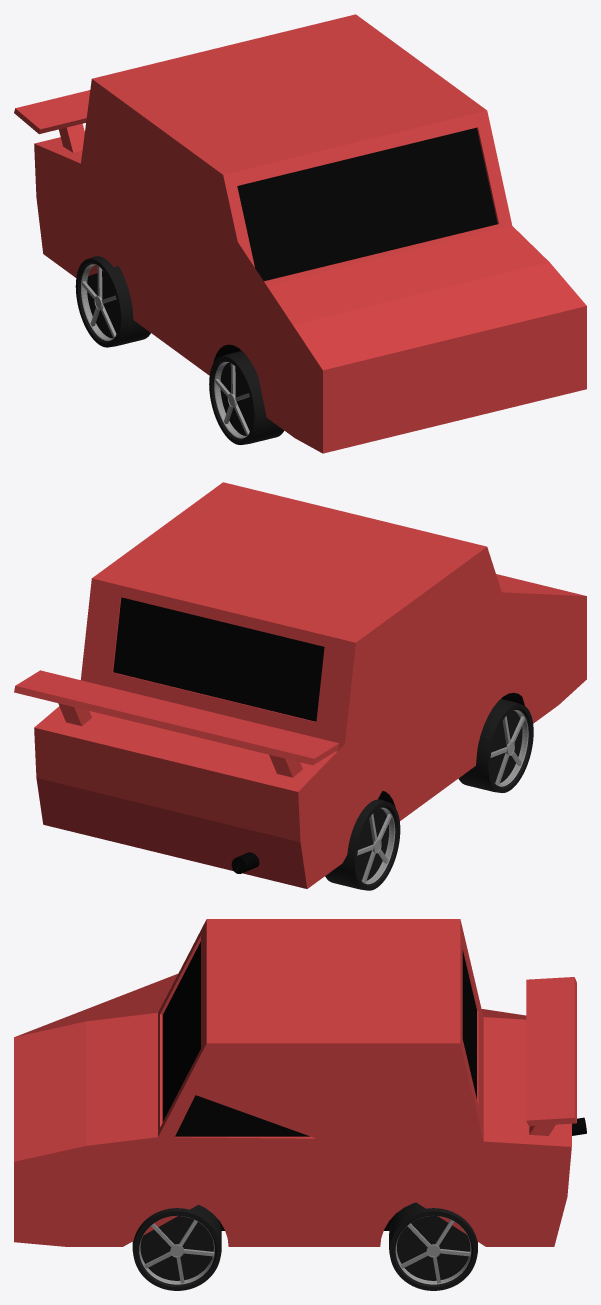
The model's file is Car.fbx.
3 renders of one model, top to bottom at view 1: azimuth 30°, elevation 25°; view 2: azimuth 150°, elevation 25°; view 3: azimuth 270°, elevation 25°, orthographic. The views are drawn at different scales.
Parts seen in each view (by area): view 1: Car, Wheel Back right, Wheel Back right.001, Cube.002, Cube.001; view 2: Car, Cube.002, Wheel Back right, Wheel Back right.001; view 3: Car, Cube.002, Wheel Back left, Wheel Back left.001.
Part boxes in pixels (x1,y1,x2,y2): Car: [34, 14, 586, 453]; Wheel Back right: [209, 351, 284, 444]; Wheel Back right.001: [75, 256, 150, 347]; Cube.002: [14, 90, 90, 134]; Cube.001: [59, 123, 84, 152]; Car: [34, 482, 586, 888]; Cube.002: [14, 670, 339, 765]; Wheel Back right: [458, 699, 533, 792]; Wheel Back right.001: [325, 799, 400, 890]; Car: [14, 919, 571, 1246]; Cube.002: [526, 977, 576, 1125]; Wheel Back left: [389, 1202, 477, 1290]; Wheel Back left.001: [132, 1204, 221, 1290].
Size of the model in its own units: 431 by 349 by 740.
